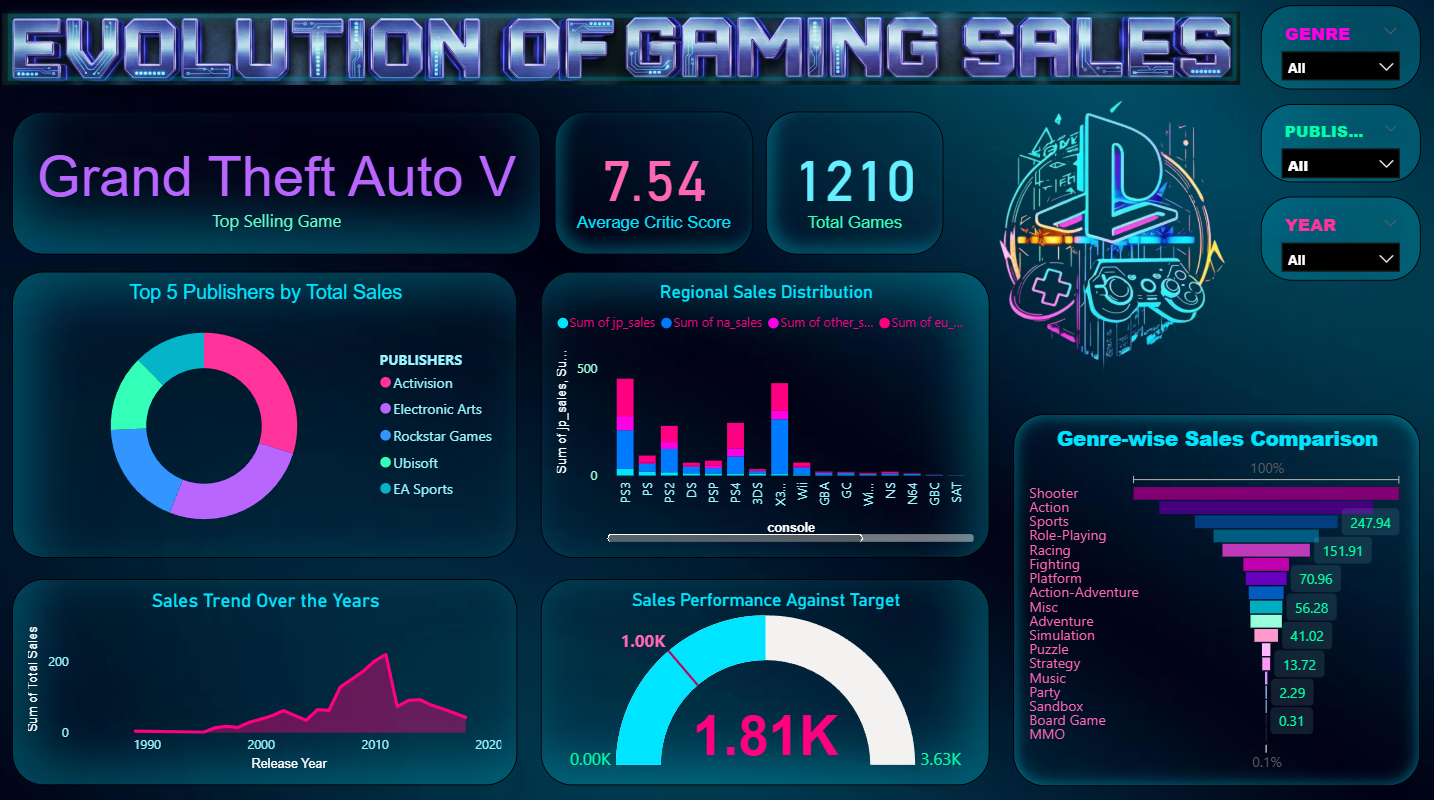

What the dashboard file says about the page in this screenshot:
{"tool":"powerbi","page":{"name":"Page 1","canvas":[1366,768],"ordinal":0},"visuals":[{"type":"card","fields":{"Values":["video_game.Top Selling Game"]},"box":[14.4,111.2,502.6,136.1],"z":0},{"type":"card","fields":{"Values":["video_game.Average Critic Score"]},"box":[530.1,111.2,188.5,136.1],"z":1000},{"type":"card","fields":{"Values":["video_game.Total Games"]},"box":[730.3,111.2,168.8,136.1],"z":2000},{"type":"columnChart","title":"Regional Sales Distribution","fields":{"Category":["video_game.console"],"Y":["Sum(video_game.jp_sales)","Sum(video_game.na_sales)","Sum(video_game.other_sales)","Sum(video_game.eu_sales)"]},"box":[517,263.1,426.7,272.2],"z":3000},{"type":"donutChart","title":"Top 5 Publishers by Total Sales","fields":{"Category":["video_game.publisher"],"Y":["Sum(video_game.Total Sales)"]},"box":[14.4,263.1,480.3,272.2],"z":4000},{"type":"slicer","fields":{"Values":["video_game.genre"]},"box":[1200.2,10.5,151.8,79.8],"z":5000},{"type":"areaChart","title":"Sales Trend Over the Years","fields":{"Category":["video_game.Release Year"],"Y":["Sum(video_game.Total Sales)"]},"box":[14.4,556.2,480.3,196.3],"z":6000},{"type":"gauge","title":"Sales Performance Against Target","fields":{"TargetValue":["video_game.Gauge Target (Static)"],"Y":["Sum(video_game.Total Sales)"]},"box":[517,556.2,426.7,196.3],"z":7000},{"type":"funnel","title":"Genre-wise Sales Comparison","fields":{"Category":["video_game.genre"],"Y":["Sum(video_game.Total Sales)"]},"box":[965.9,399.2,386.1,353.4],"z":8000},{"type":"slicer","fields":{"Values":["video_game.publisher"]},"box":[1200.2,104.7,151.8,74.6],"z":9000},{"type":"slicer","fields":{"Values":["video_game.Release Year"]},"box":[1200.2,192.4,151.8,79.8],"z":10000},{"type":"image","box":[0,0,598.1,104.7],"z":11000},{"type":"image","box":[583.7,11.8,602,79.8],"z":12000},{"type":"shape","box":[2.6,10.5,1183.2,79.8],"z":13000},{"type":"image","box":[925.3,62.8,260.5,336.4],"z":14000}]}

Visuals, with their boxes in screenshot pixels (x1, y1, x2, y2), scaled from the page's 1366x768 canvas onto the 1434x800 screenshot:
card - video_game.Top Selling Game: (left=15, top=116, right=543, bottom=258)
card - video_game.Average Critic Score: (left=556, top=116, right=754, bottom=258)
card - video_game.Total Games: (left=767, top=116, right=944, bottom=258)
"Regional Sales Distribution" columnChart: (left=543, top=274, right=991, bottom=558)
"Top 5 Publishers by Total Sales" donutChart: (left=15, top=274, right=519, bottom=558)
slicer - video_game.genre: (left=1260, top=11, right=1419, bottom=94)
"Sales Trend Over the Years" areaChart: (left=15, top=579, right=519, bottom=784)
"Sales Performance Against Target" gauge: (left=543, top=579, right=991, bottom=784)
"Genre-wise Sales Comparison" funnel: (left=1014, top=416, right=1419, bottom=784)
slicer - video_game.publisher: (left=1260, top=109, right=1419, bottom=187)
slicer - video_game.Release Year: (left=1260, top=200, right=1419, bottom=284)
image: (left=0, top=0, right=628, bottom=109)
image: (left=613, top=12, right=1245, bottom=95)
shape: (left=3, top=11, right=1245, bottom=94)
image: (left=971, top=65, right=1245, bottom=416)
